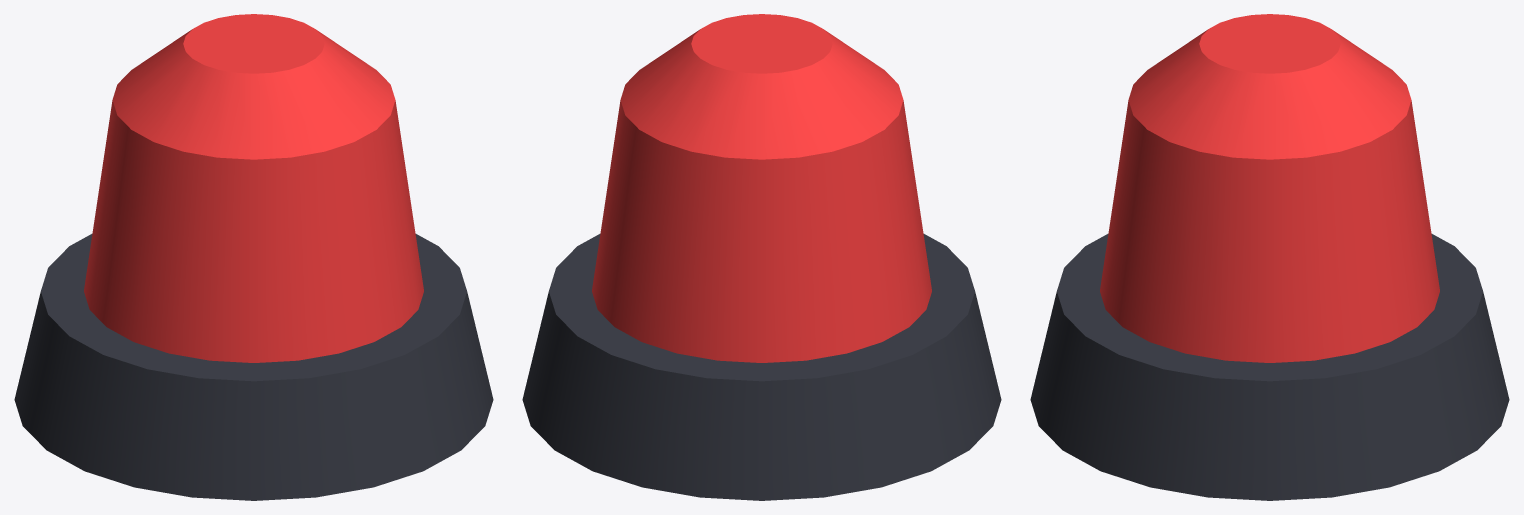
File: Siren.fbx
The picture shows the model from 3 angles, left to right: view 1: azimuth 30°, elevation 25°; view 2: azimuth 150°, elevation 25°; view 3: azimuth 270°, elevation 25°; orthographic projection.
Visible parts, largest first — view 1: detail_siren; view 2: detail_siren; view 3: detail_siren.
Part boxes in pixels (left/top/right/bottom): detail_siren: left=14, top=14, right=493, bottom=500; detail_siren: left=522, top=14, right=1001, bottom=500; detail_siren: left=1030, top=14, right=1509, bottom=500.
Bounding box in the file's own units: 4 × 3.28 × 4.
